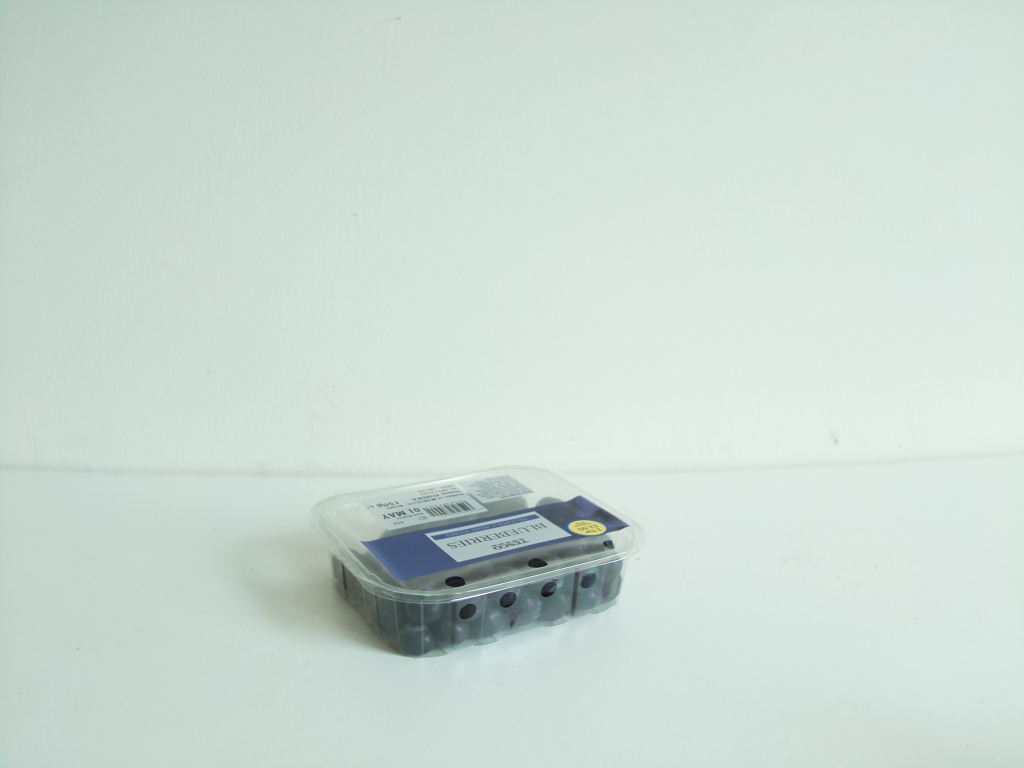soft-fruit: (312, 466, 638, 654)
